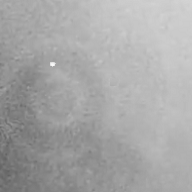Target: (48, 61, 56, 67)
